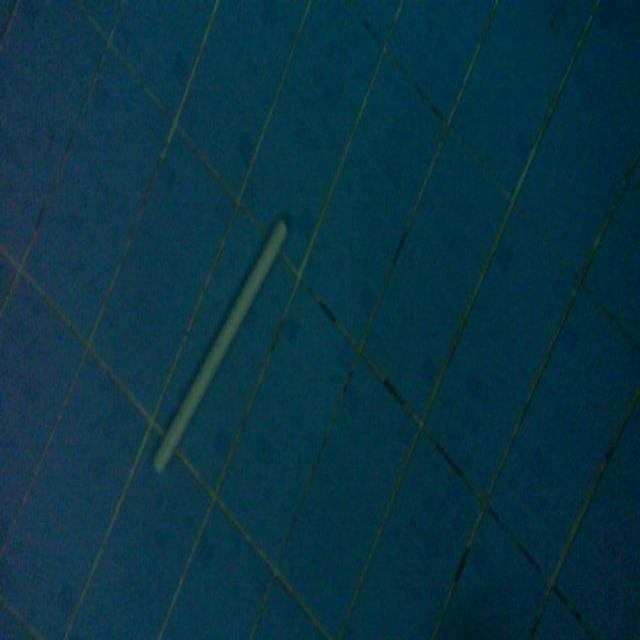Cube: (150, 212, 290, 476)
